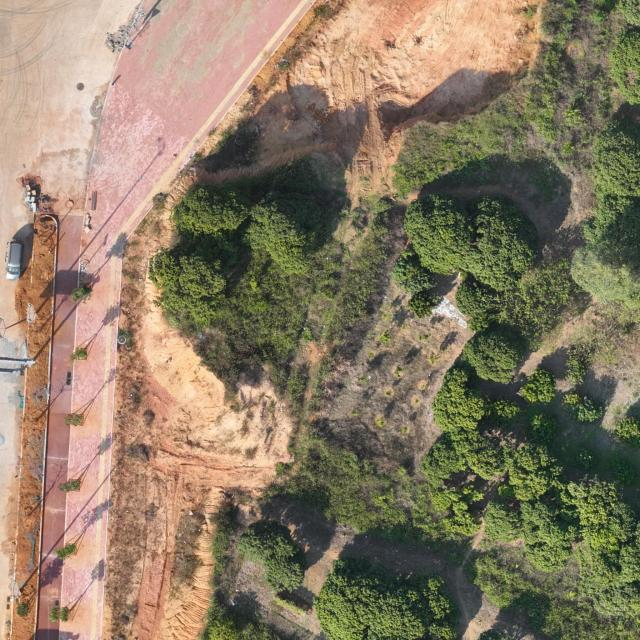Tree: (311, 554, 454, 640), (469, 194, 539, 292), (148, 250, 228, 328), (402, 192, 471, 278), (242, 198, 313, 276), (566, 475, 634, 553), (238, 518, 306, 592), (518, 500, 578, 572), (502, 442, 568, 501), (428, 367, 486, 432), (460, 328, 525, 385), (175, 186, 252, 234), (448, 430, 506, 480), (431, 488, 483, 536), (420, 440, 468, 488), (391, 248, 437, 294), (455, 276, 501, 316), (516, 368, 558, 404), (563, 392, 604, 423), (613, 416, 640, 446), (71, 284, 93, 303), (54, 543, 78, 560), (48, 606, 70, 624), (59, 479, 82, 493), (64, 413, 83, 427), (70, 348, 88, 362)
